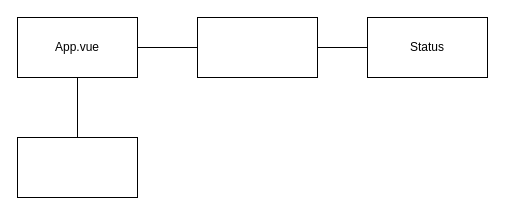
Some shapes in this 505 by 215 pixel diagram are drawn without their labels. Here are the shapes that lost their labels. From the top down, the centre of each, then its label:
(257,47): SearchController
(77,167): Case.vue
